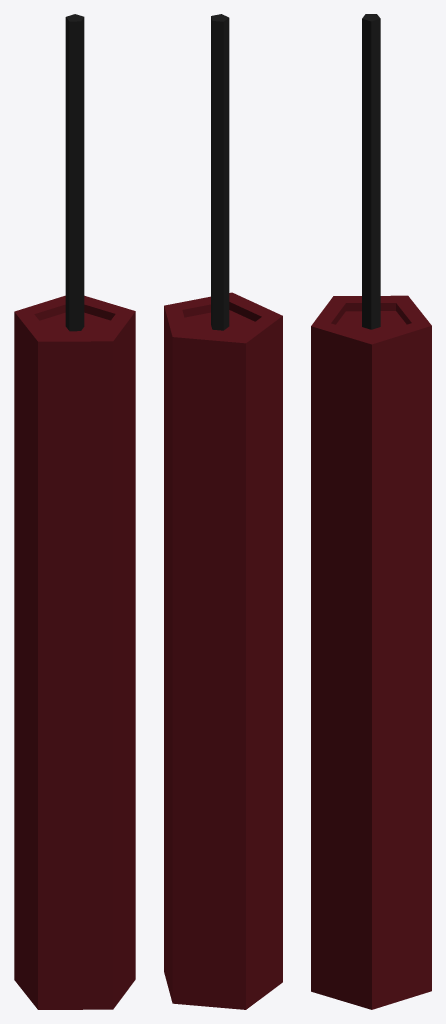
File: Dynamite A.obj
3 views of the same model, side by side, from view 1: azimuth 90°, elevation 25°; view 2: azimuth 150°, elevation 25°; view 3: azimuth 270°, elevation 25° (orthographic).
Visible parts, largest first — view 1: Dynamite_A; view 2: Dynamite_A; view 3: Dynamite_A.
Part boxes in pixels (left/top/right/bottom): Dynamite_A: left=14, top=14, right=135, bottom=1009; Dynamite_A: left=164, top=14, right=282, bottom=1009; Dynamite_A: left=311, top=14, right=431, bottom=1009.
Bounding box in the file's own units: 0.0522 × 0.4818 × 0.0547.
